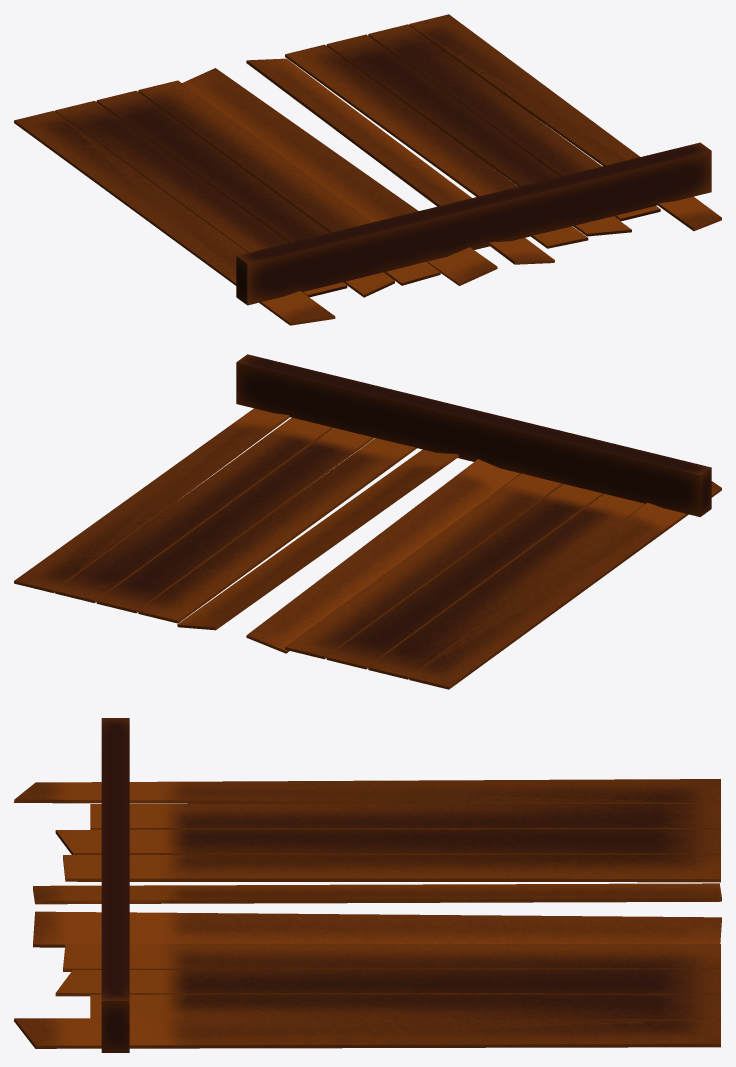
File: Maderia_Entrada.006.fbx
3 views of the same model, one above another, from view 1: azimuth 30°, elevation 25°; view 2: azimuth 150°, elevation 25°; view 3: azimuth 270°, elevation 25° (orthographic). The views are drawn at different scales.
Parts seen in each view (by area): view 1: Maderia_Entrada.006; view 2: Maderia_Entrada.006; view 3: Maderia_Entrada.006.
Boxes of the visible parts, x1,y1,x2,y2 form: Maderia_Entrada.006: [14, 14, 721, 325]; Maderia_Entrada.006: [14, 354, 721, 689]; Maderia_Entrada.006: [14, 718, 721, 1052].
Bounding box in the file's own units: 905 × 90.29 × 958.
